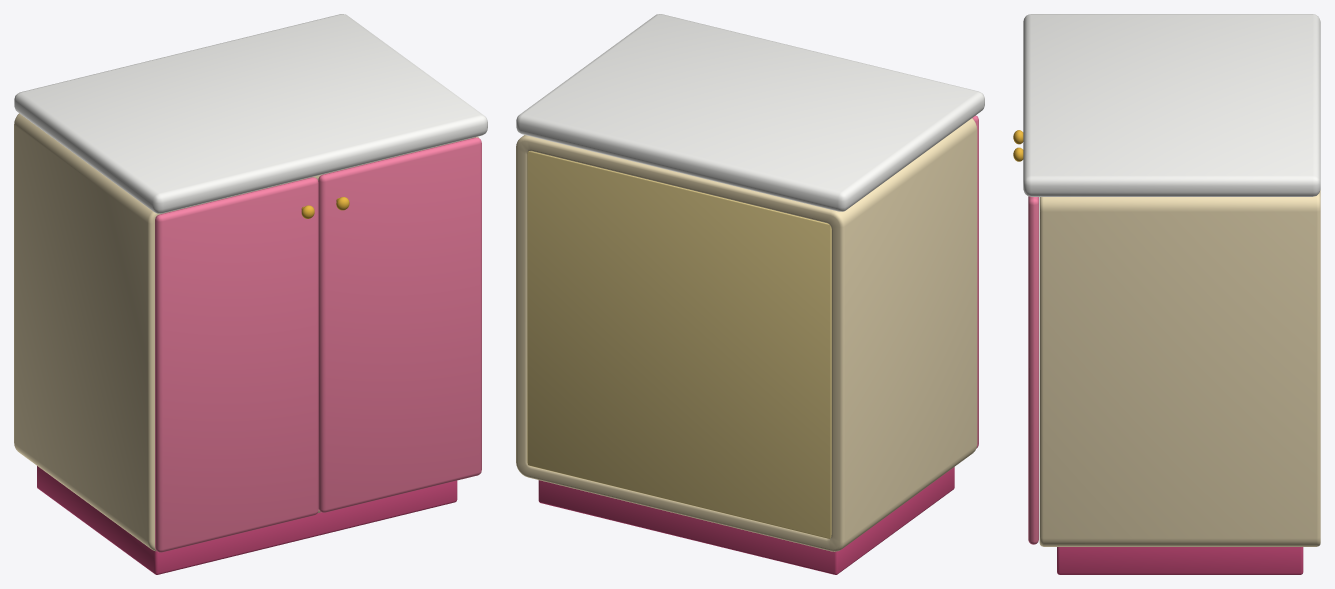
The model's file is armario_cozinha_base_2portas_creme_rosa.glb.
3 renders of one model, left to right at view 1: azimuth 30°, elevation 25°; view 2: azimuth 150°, elevation 25°; view 3: azimuth 270°, elevation 25°, orthographic. The views are drawn at different scales.
Visible parts, largest first — view 1: armario_cozinha_base_2portas_creme_rosa, porta_1, porta_2; view 2: armario_cozinha_base_2portas_creme_rosa, porta_1; view 3: armario_cozinha_base_2portas_creme_rosa, porta_2.
Part boxes in pixels (<box>): armario_cozinha_base_2portas_creme_rosa: <box>14,14,487,574</box>; porta_1: <box>155,177,318,552</box>; porta_2: <box>318,137,481,512</box>; armario_cozinha_base_2portas_creme_rosa: <box>516,14,984,574</box>; porta_1: <box>972,115,978,448</box>; armario_cozinha_base_2portas_creme_rosa: <box>1023,14,1320,574</box>; porta_2: <box>1013,147,1038,544</box>.
Size of the model in its own units: 0.798 by 0.9 by 0.619.
Materials: 1 (1 with a texture image).
